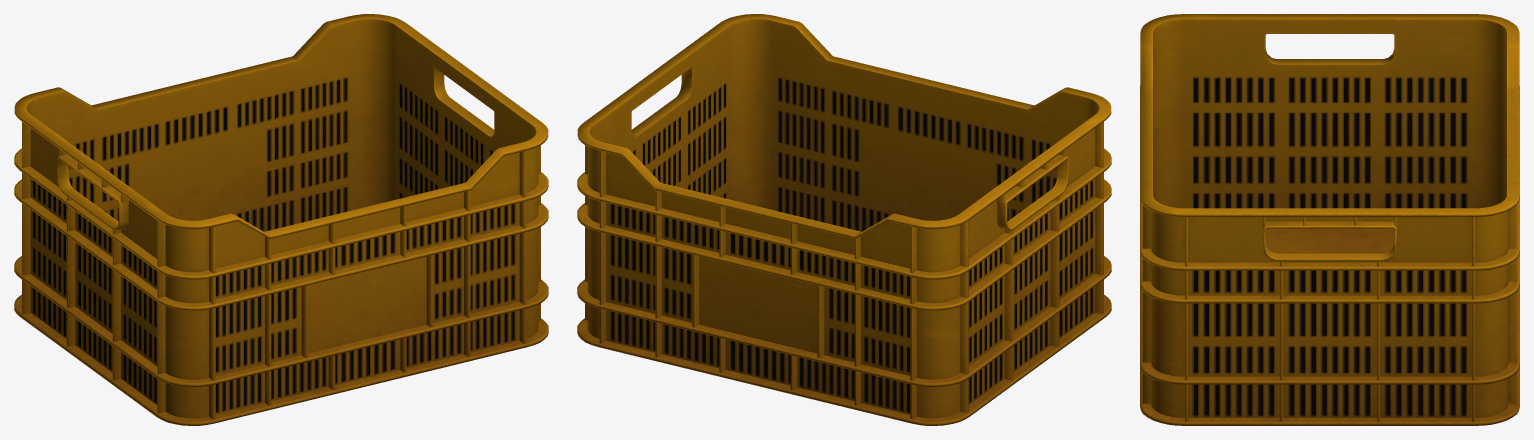
3 views of the same model, side by side, from view 1: azimuth 30°, elevation 25°; view 2: azimuth 150°, elevation 25°; view 3: azimuth 270°, elevation 25° (orthographic). The views are drawn at different scales.
Visible parts, largest first — view 1: plastic_crate_02; view 2: plastic_crate_02; view 3: plastic_crate_02.
Part boxes in pixels (bbox=[...]): plastic_crate_02: bbox=[14, 14, 548, 425]; plastic_crate_02: bbox=[577, 14, 1111, 425]; plastic_crate_02: bbox=[1140, 14, 1519, 425].
Bounding box in the file's own units: 0.5055 × 0.2541 × 0.4055.
Materials: 1 (1 with a texture image).
